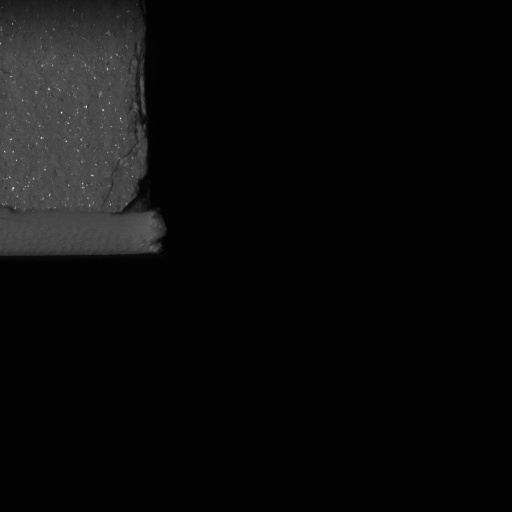bengque: (115, 173, 158, 218)
